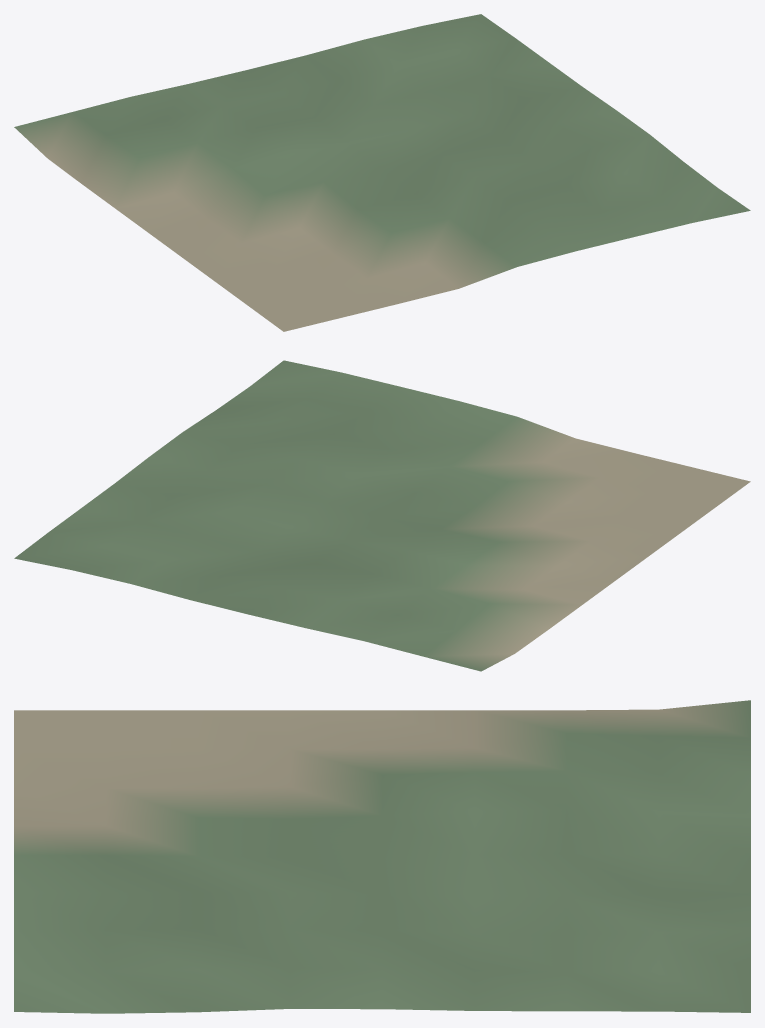
The picture shows the model from 3 angles, top to bottom: view 1: azimuth 30°, elevation 25°; view 2: azimuth 150°, elevation 25°; view 3: azimuth 270°, elevation 25°; orthographic projection. The views are drawn at different scales.
Parts seen in each view (by area): view 1: Lo; view 2: Lo; view 3: Lo.
Boxes of the visible parts, x1,y1,x2,y2 form: Lo: (14, 14, 750, 331); Lo: (14, 360, 750, 671); Lo: (14, 700, 750, 1013).
Bounding box in the file's own units: 256 × 6.72 × 256.
